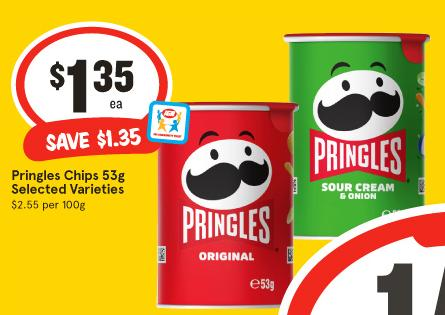description_block: (0, 160, 138, 198)
price_main: (21, 37, 157, 122)
product_image_block: (160, 19, 428, 280)
promo_text_block: (10, 119, 157, 158)
unit_price_block: (8, 196, 91, 218)
